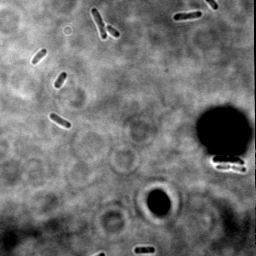Dividing: (89, 6, 109, 42), (213, 162, 248, 174)
Rod: (48, 111, 73, 131), (171, 9, 204, 23), (30, 47, 48, 66), (52, 71, 69, 90), (132, 244, 158, 256), (104, 23, 122, 40)
